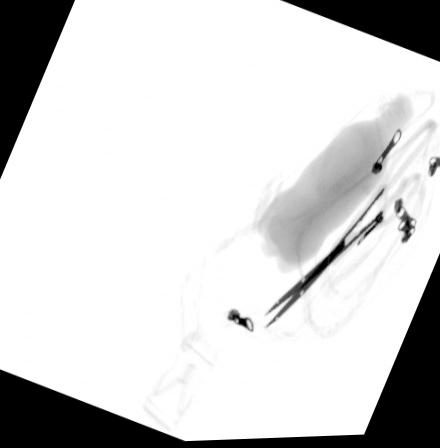Scissors: (260, 124, 437, 331)
